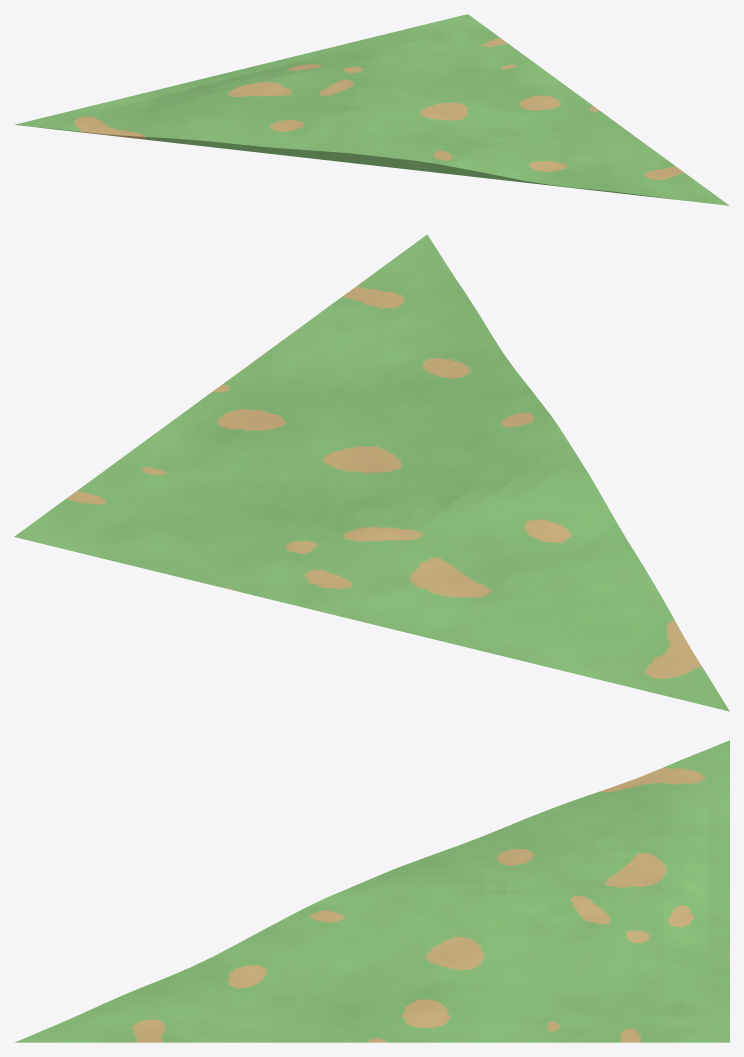
The model's file is Grass_Flat_02_SE.obj.
3 renders of one model, top to bottom at view 1: azimuth 30°, elevation 25°; view 2: azimuth 150°, elevation 25°; view 3: azimuth 270°, elevation 25°, orthographic. The views are drawn at different scales.
Size of the model in its own units: 10 by 0.2541 by 10.
1 material, 1 textured.
